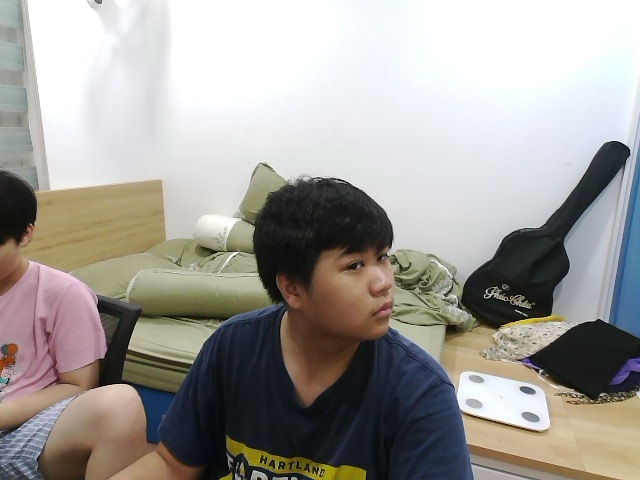face: (253, 178, 395, 339)
